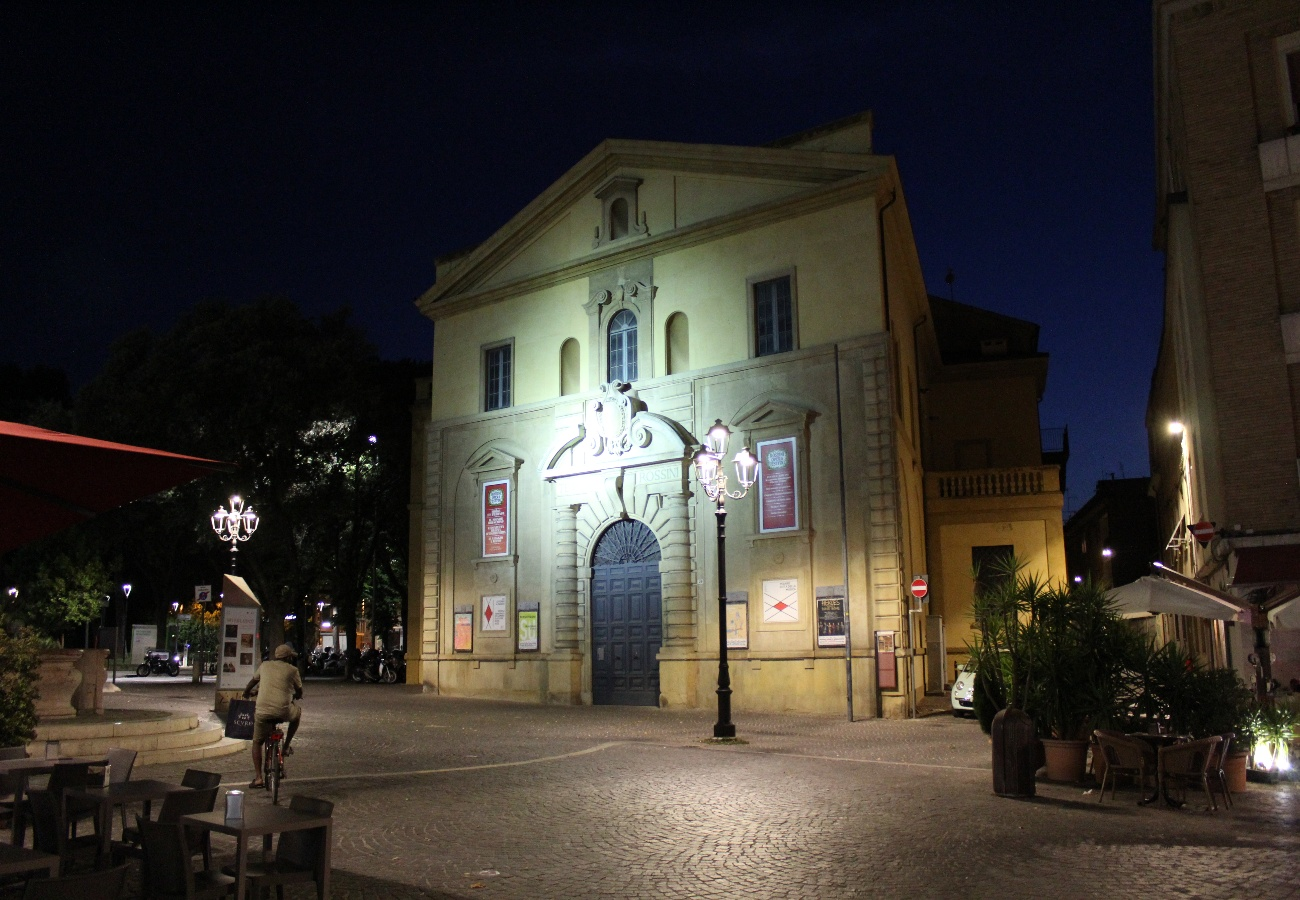Teatro Rossini: (419, 133, 888, 719)
